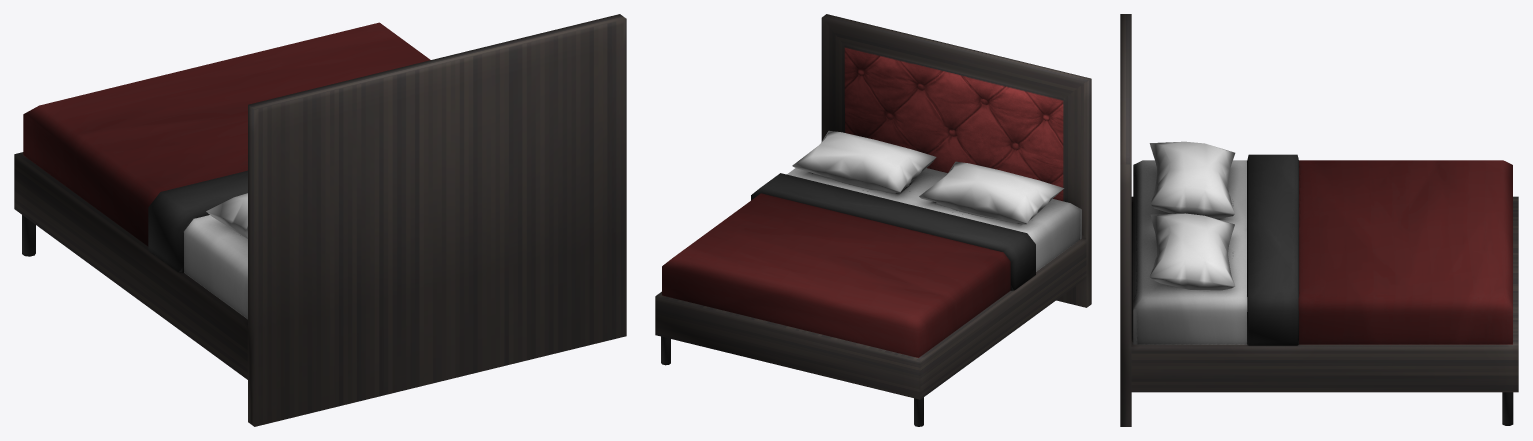
The model's file is FUR0210028.fbx.
The picture shows the model from 3 angles, left to right: view 1: azimuth 30°, elevation 25°; view 2: azimuth 150°, elevation 25°; view 3: azimuth 270°, elevation 25°; orthographic projection. The views are drawn at different scales.
Parts seen in each view (by area): view 1: smFUR0210028; view 2: smFUR0210028; view 3: smFUR0210028.
Part boxes in pixels (x1,y1,x2,y2): smFUR0210028: (14, 14, 626, 426); smFUR0210028: (655, 14, 1091, 426); smFUR0210028: (1120, 14, 1518, 426).
Size of the model in its own units: 228 by 186 by 255.
Materials: 1 (1 with a texture image).
